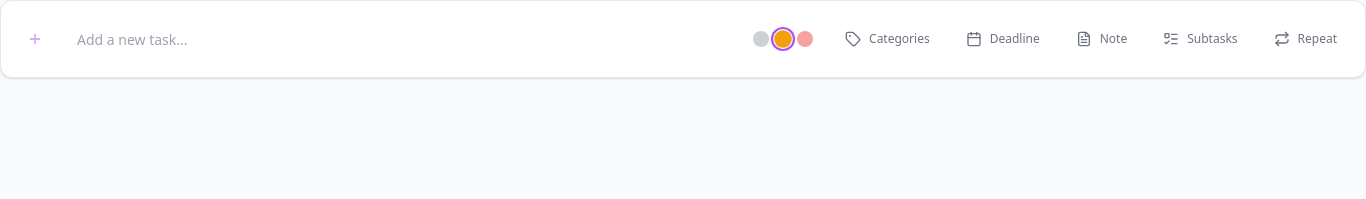
TaskInput › description input › shows description textarea when Note button is clicked
Click the button with aria-label "Add note": {"x": 1101, "y": 39} [1064,17,1139,61]
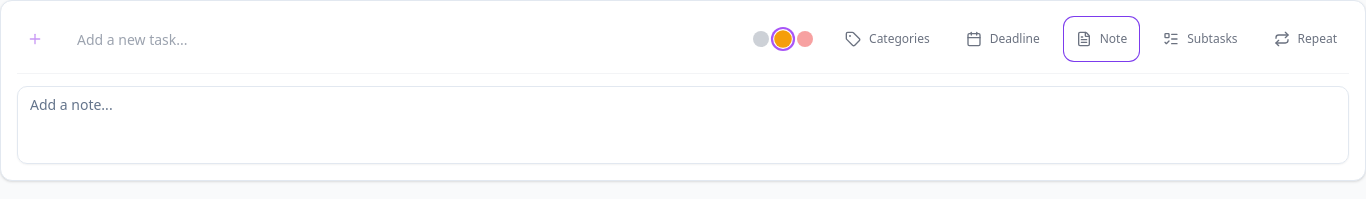
Now the text box named "Task description" is shown, box [17,86,1349,164]
